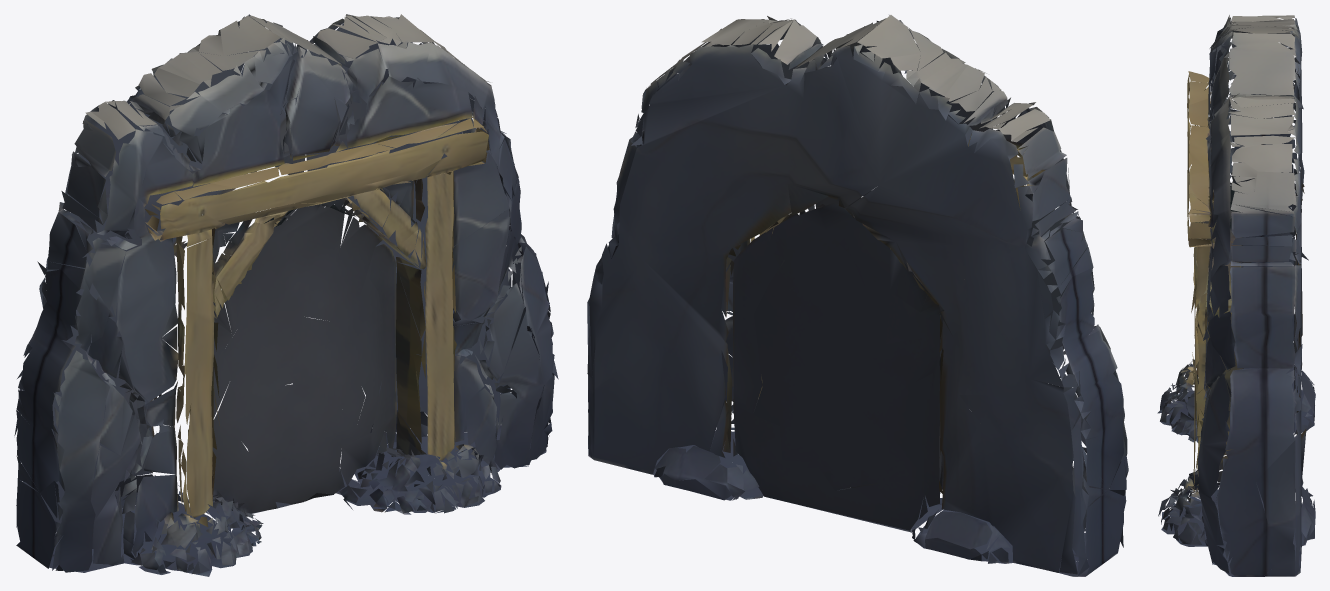
File: Landing_MineAdit.glb
The picture shows the model from 3 angles, left to right: view 1: azimuth 30°, elevation 25°; view 2: azimuth 150°, elevation 25°; view 3: azimuth 270°, elevation 25°; orthographic projection. The views are drawn at different scales.
Parts seen in each view (by area): view 1: Landing_MineAdit; view 2: Landing_MineAdit; view 3: Landing_MineAdit.
Part boxes in pixels (box(x1,y1,x2,y2)): Landing_MineAdit: box(14, 14, 558, 576); Landing_MineAdit: box(587, 15, 1128, 576); Landing_MineAdit: box(1157, 15, 1315, 576).
Bounding box in the file's own units: 3.88 × 3.58 × 1.19.
1 material, 1 textured.
